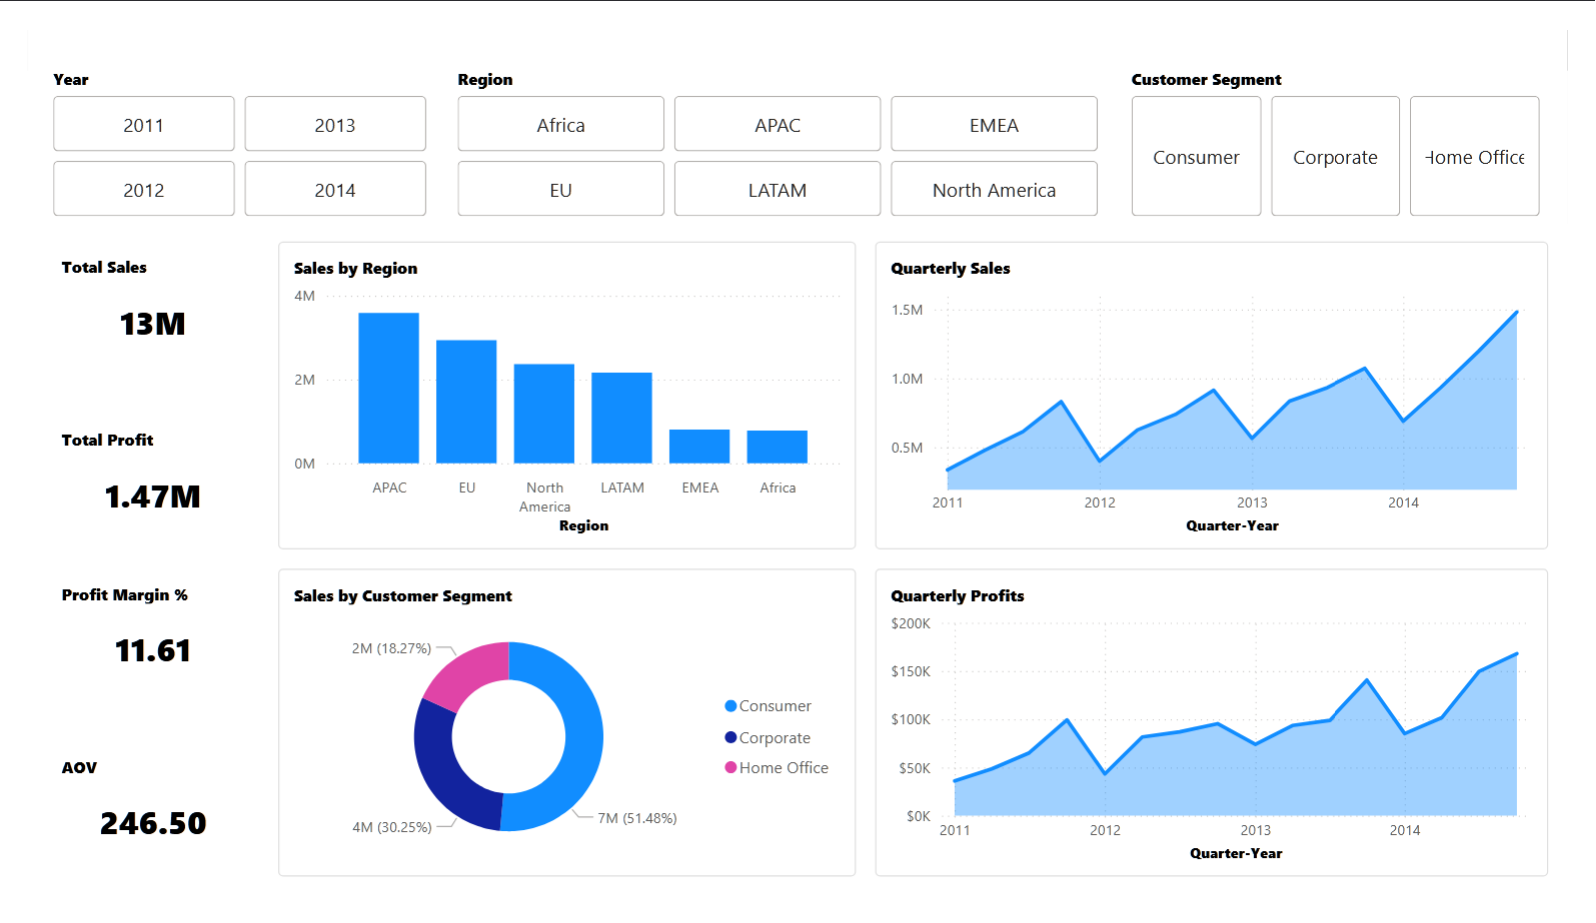

The page's visual inventory and layout, read from the dashboard file:
{"tool":"powerbi","page":{"name":"Overview","canvas":[1280,720],"ordinal":0},"visuals":[{"type":"card","title":"Total Sales","fields":{"Values":["superstore.total_sales"]},"box":[16,176,176,112],"z":0},{"type":"card","title":"Total Profit","fields":{"Values":["superstore.total_profit"]},"box":[16,320,176,112],"z":1000},{"type":"card","title":"Profit Margin %","fields":{"Values":["superstore.profit_margin"]},"box":[16,448,176,112],"z":2000},{"type":"card","title":"AOV","fields":{"Values":["superstore.average_order_value"]},"box":[16,592,176,112],"z":3000},{"type":"areaChart","title":"Quarterly Profits","fields":{"Category":["superstore.Order.Date.Variation.Date Hierarchy.Year","superstore.Order.Date.Variation.Date Hierarchy.Quarter"],"Y":["Sum(superstore.Profit)"]},"box":[704,448,560,256],"z":4000},{"type":"donutChart","title":"Sales by Customer Segment","fields":{"Y":["Sum(superstore.Sales)"],"Category":["superstore.Segment"]},"box":[208,448,480,256],"z":5000},{"type":"advancedSlicerVisual","fields":{"Values":["superstore.Order.Date.Variation.Date Hierarchy.Year"]},"box":[16,32,320,128],"z":6000},{"type":"advancedSlicerVisual","title":"Region","fields":{"Values":["superstore.Market2"]},"box":[352,32,544,128],"z":7000},{"type":"advancedSlicerVisual","title":"Customer Segment","fields":{"Values":["superstore.Segment"]},"box":[912,32,352,128],"z":8000},{"type":"areaChart","title":"Quarterly Sales","fields":{"Category":["superstore.Order.Date.Variation.Date Hierarchy.Year","superstore.Order.Date.Variation.Date Hierarchy.Quarter"],"Y":["Sum(superstore.Sales)"]},"box":[704,176,560,256],"z":9000},{"type":"clusteredColumnChart","fields":{"Y":["Sum(superstore.Sales)"],"Category":["superstore.Market2"]},"box":[208,176,480,256],"z":10000}]}

Visuals, with their boxes in screenshot pixels (x1, y1, x2, y2), scaled from the page's 1280x720 canvas onto the 1596x923 screenshot:
"Total Sales" card: (20, 226, 239, 369)
"Total Profit" card: (20, 410, 239, 554)
"Profit Margin %" card: (20, 574, 239, 718)
"AOV" card: (20, 759, 239, 902)
"Quarterly Profits" areaChart: (878, 574, 1576, 902)
"Sales by Customer Segment" donutChart: (259, 574, 858, 902)
advancedSlicerVisual - superstore.Order.Date.Variation.Date Hierarchy.Year: (20, 41, 419, 205)
"Region" advancedSlicerVisual: (439, 41, 1117, 205)
"Customer Segment" advancedSlicerVisual: (1137, 41, 1576, 205)
"Quarterly Sales" areaChart: (878, 226, 1576, 554)
clusteredColumnChart - Sum(superstore.Sales) x superstore.Market2: (259, 226, 858, 554)
